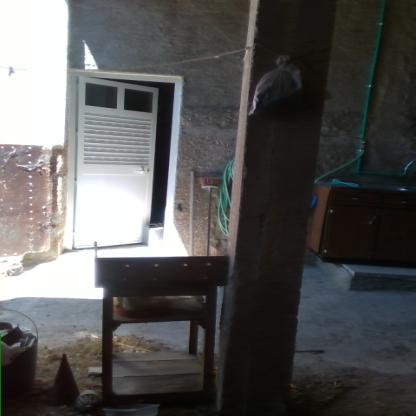semi: (57, 60, 185, 255)
